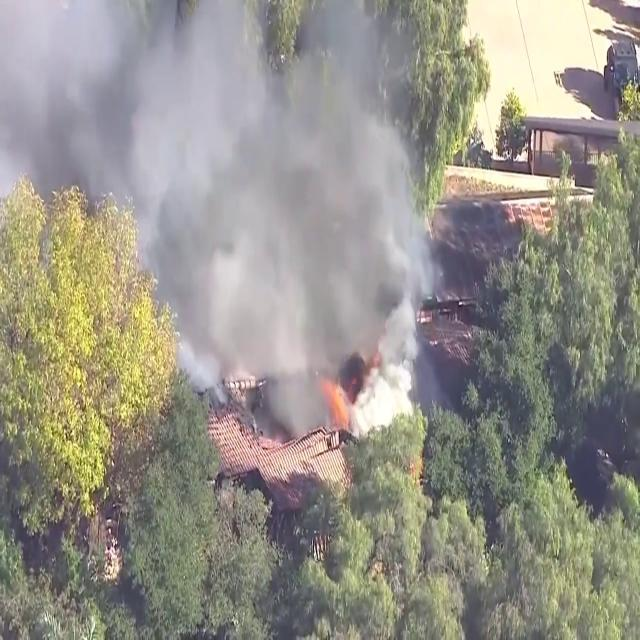Smoke: (6, 0, 447, 420)
